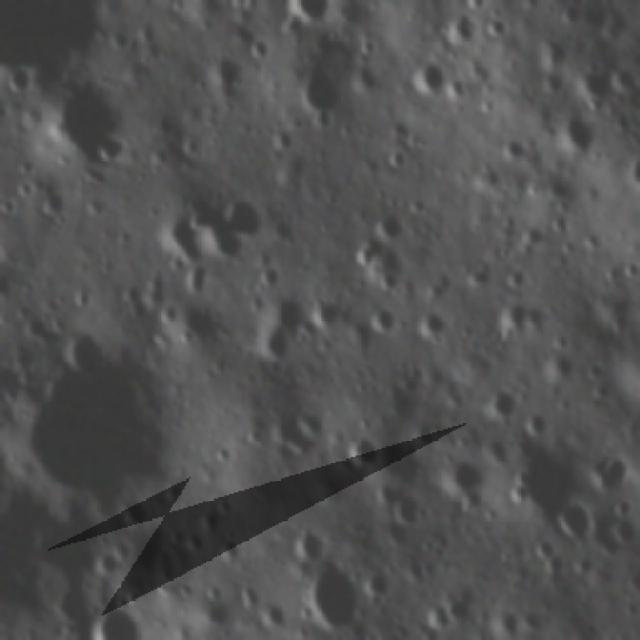crater: (30, 351, 156, 498), (32, 74, 112, 169), (290, 57, 364, 121), (306, 572, 362, 630), (552, 502, 596, 552), (411, 58, 447, 96), (409, 312, 446, 348), (350, 430, 376, 476), (374, 207, 408, 241), (559, 119, 596, 150), (580, 67, 606, 101), (315, 298, 336, 334)
